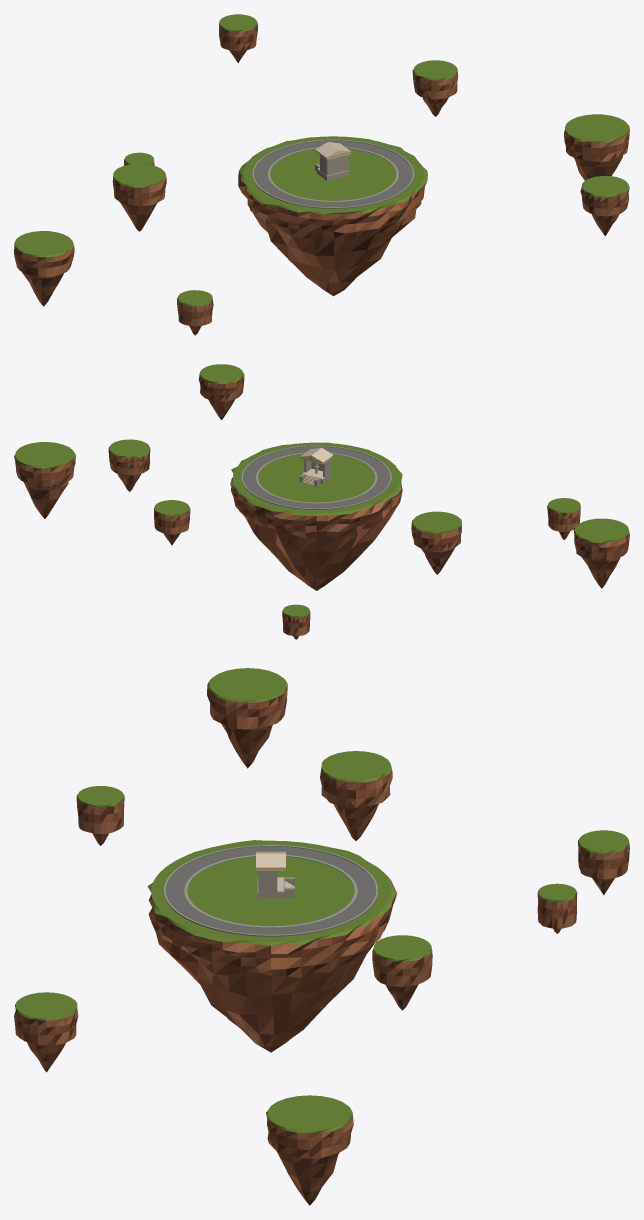
File: sky_temple.glb
3 renders of one model, top to bottom at view 1: azimuth 30°, elevation 25°; view 2: azimuth 150°, elevation 25°; view 3: azimuth 270°, elevation 25°, orthographic. The views are drawn at different scales.
Visible parts, largest first — view 1: Island, Islet6, Islet7, Walk, Islet0, Islet3, Islet1, Islet4, Islet2, Shrine, Edge, Curb; view 2: Island, Islet6, Islet7, Walk, Islet0, Islet3, Islet1, Islet4, Islet2, Shrine, Islet5, Edge (+1 smaller); view 3: Island, Islet6, Islet7, Walk, Islet0, Islet3, Islet1, Islet4, Islet2, Islet5, Shrine, Edge (+1 smaller).
Boxes of the visible parts, bbox=[...] form: Island: bbox=[238, 136, 427, 296]; Islet6: bbox=[564, 114, 629, 180]; Islet7: bbox=[14, 231, 74, 306]; Walk: bbox=[254, 140, 412, 207]; Islet0: bbox=[112, 163, 166, 231]; Islet3: bbox=[580, 176, 629, 235]; Islet1: bbox=[412, 60, 458, 116]; Islet4: bbox=[219, 14, 257, 63]; Islet2: bbox=[177, 290, 213, 335]; Shrine: bbox=[315, 142, 350, 180]; Edge: bbox=[252, 139, 414, 208]; Curb: bbox=[268, 147, 398, 201]; Island: bbox=[230, 442, 402, 590]; Islet6: bbox=[14, 442, 75, 518]; Islet7: bbox=[574, 518, 629, 588]; Walk: bbox=[243, 446, 390, 508]; Islet0: bbox=[411, 511, 461, 574]; Islet3: bbox=[198, 364, 244, 419]; Islet1: bbox=[108, 439, 150, 491]; Islet4: bbox=[154, 500, 190, 545]; Islet2: bbox=[547, 498, 580, 539]; Shrine: bbox=[299, 448, 332, 486]; Islet5: bbox=[282, 604, 310, 639]; Edge: bbox=[241, 445, 391, 509]; Island: bbox=[147, 840, 397, 1052]; Islet6: bbox=[266, 1095, 353, 1205]; Islet7: bbox=[207, 668, 287, 768]; Walk: bbox=[165, 846, 376, 934]; Islet0: bbox=[320, 751, 392, 840]; Islet3: bbox=[14, 992, 78, 1072]; Islet1: bbox=[372, 935, 432, 1010]; Islet4: bbox=[578, 830, 629, 895]; Islet2: bbox=[76, 786, 124, 845]; Islet5: bbox=[537, 883, 577, 933]; Shrine: bbox=[256, 851, 294, 898]; Edge: bbox=[163, 845, 378, 936].
Bounding box in the file's own units: 250 × 66 × 159.
